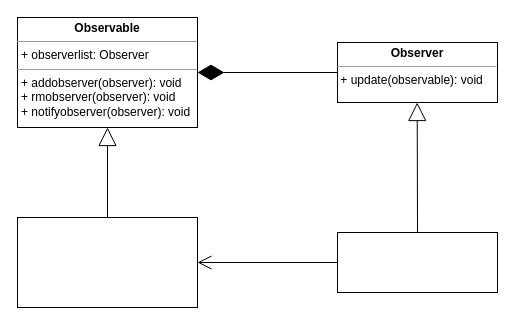
This 515x325 diagram has some shape labels left out. Each missing label, with the box of its shape:
ObservableImp + field: Type + method(): Type: (16, 216, 198, 308)
ObserverImp + update(observable): void: (336, 232, 498, 292)
